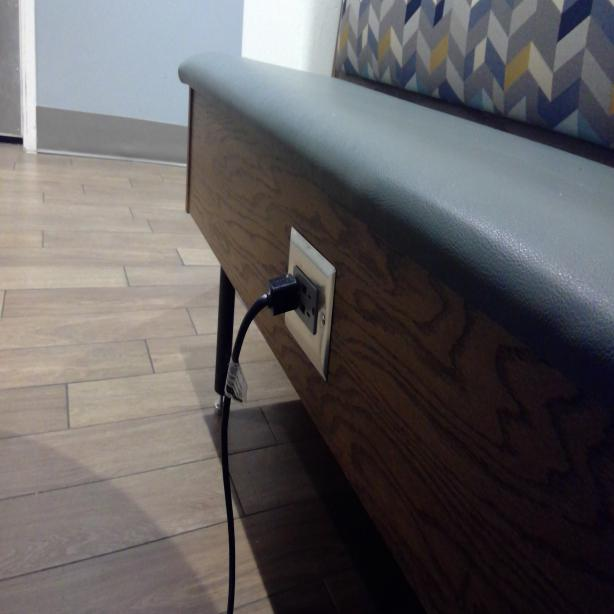typeb: (304, 284, 320, 326)
